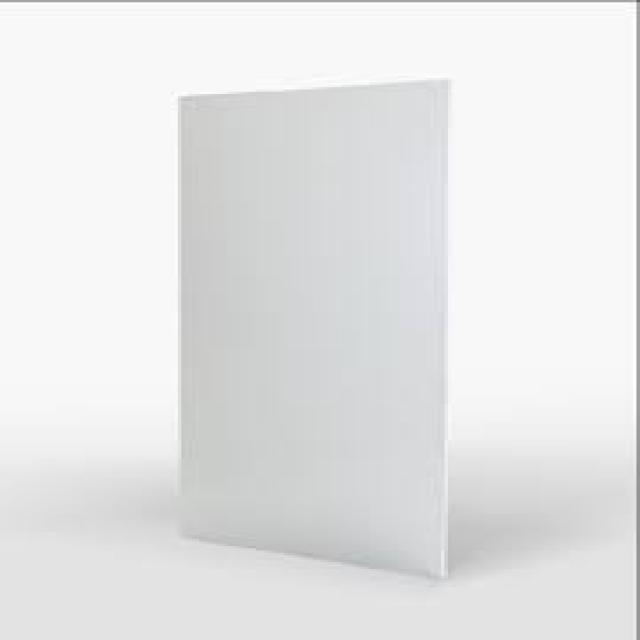door: (176, 77, 450, 579)
